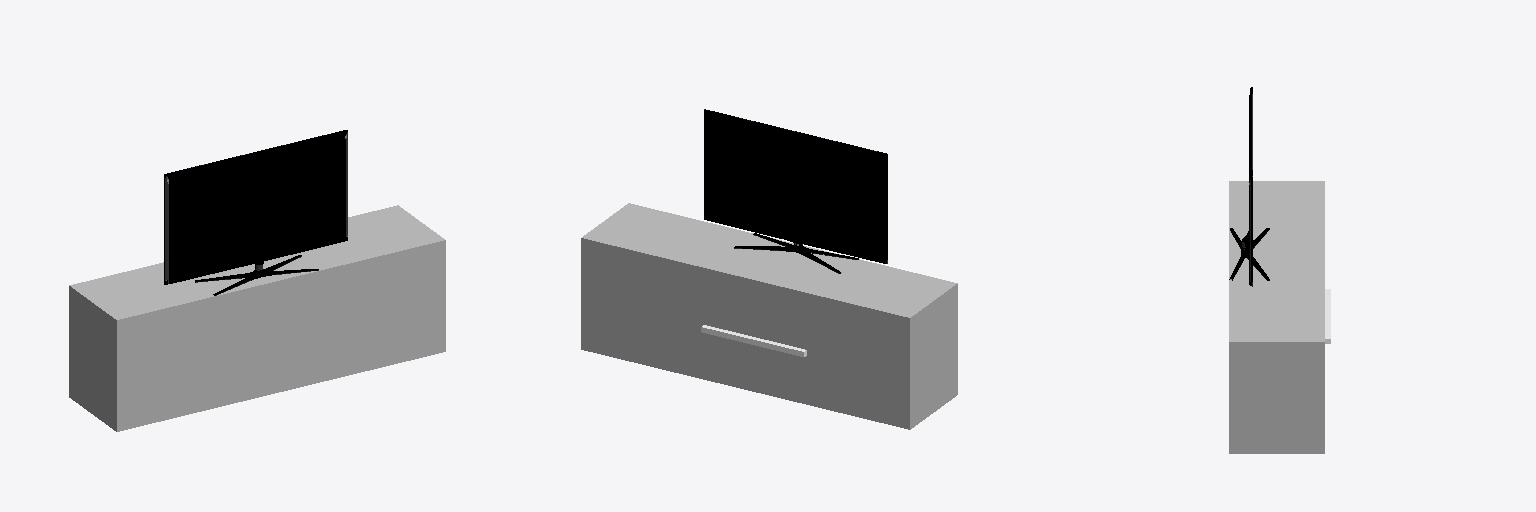
The picture shows the model from 3 angles: view 1: azimuth 30°, elevation 25°; view 2: azimuth 150°, elevation 25°; view 3: azimuth 270°, elevation 25°; orthographic projection.
Visible parts, largest first — view 1: rack_1_Cube.028, televisao_Samsung_LED_TV; view 2: rack_1_Cube.028, televisao_Samsung_LED_TV, puxador_1_Cube.030; view 3: rack_1_Cube.028, televisao_Samsung_LED_TV.
Part boxes in pixels (x1,y1,x2,y2): rack_1_Cube.028: (69, 205, 445, 431); televisao_Samsung_LED_TV: (164, 130, 347, 295); rack_1_Cube.028: (581, 203, 957, 429); televisao_Samsung_LED_TV: (704, 109, 887, 273); puxador_1_Cube.030: (701, 325, 806, 356); rack_1_Cube.028: (1229, 181, 1324, 453); televisao_Samsung_LED_TV: (1229, 87, 1269, 286).
Bounding box in the file's own units: 4 × 2.73 × 1.06.
3 materials, 2 textured.